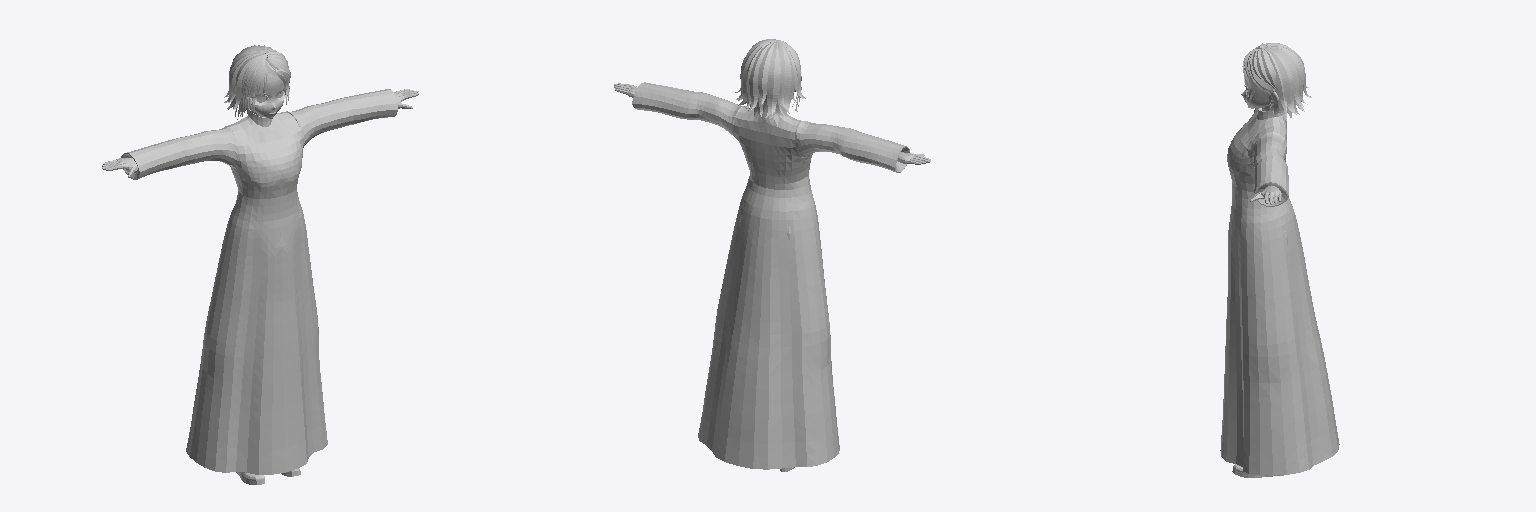
Rendered from testmodel.obj.
3 renders of one model, left to right at view 1: azimuth 30°, elevation 25°; view 2: azimuth 150°, elevation 25°; view 3: azimuth 270°, elevation 25°, orthographic.
Visible parts, largest first — view 1: Body_Body_(merged).baked, Hair_Hair001_(merged).baked, Face_Face_(merged).baked; view 2: Body_Body_(merged).baked, Hair_Hair001_(merged).baked; view 3: Body_Body_(merged).baked, Hair_Hair001_(merged).baked.
Part boxes in pixels (x1,y1,x2,y2): Body_Body_(merged).baked: (102, 60, 418, 484); Hair_Hair001_(merged).baked: (224, 45, 290, 119); Face_Face_(merged).baked: (234, 77, 289, 118); Body_Body_(merged).baked: (614, 82, 930, 471); Hair_Hair001_(merged).baked: (735, 39, 805, 119); Body_Body_(merged).baked: (1220, 91, 1339, 477); Hair_Hair001_(merged).baked: (1242, 43, 1311, 120).
Bounding box in the file's own units: 1.46 × 1.84 × 0.4737.